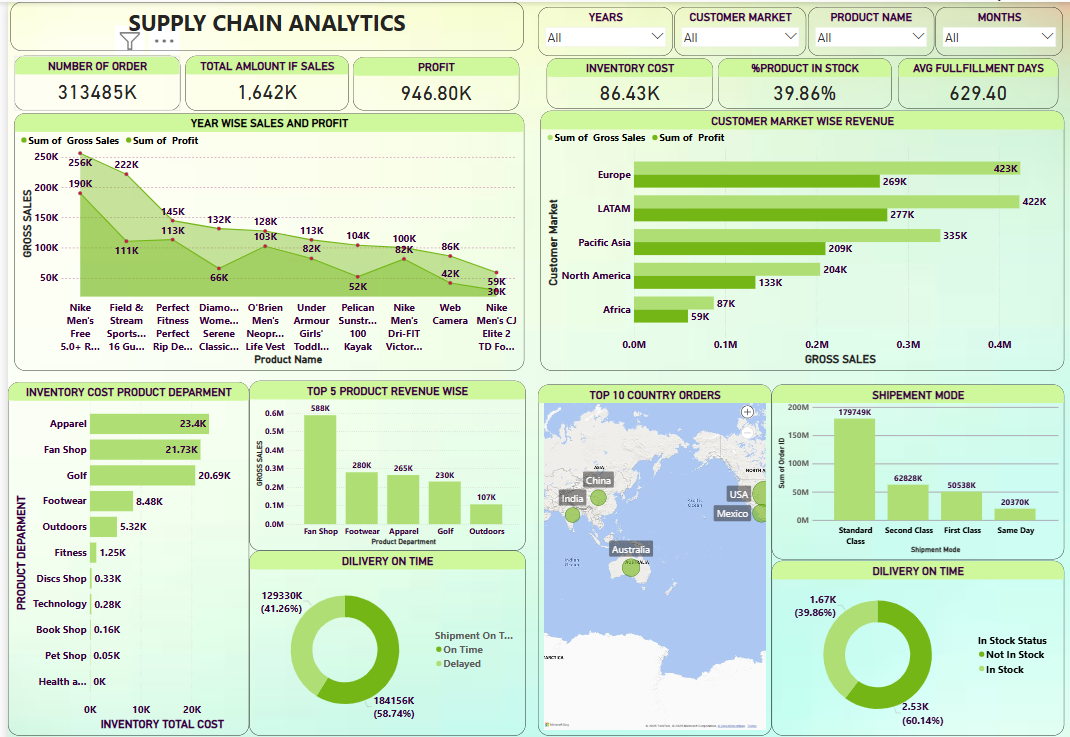

The dashboard page shown, as its layout file describes it:
{"tool":"powerbi","page":{"name":"Page 1","canvas":[2850,2000],"ordinal":0},"visuals":[{"type":"card","title":"NUMBER OF ORDER","fields":{"Values":["Sum(orders_and_shipments.Order ID )"]},"box":[15.9,143.2,445.4,147.1],"z":0},{"type":"card","title":"TOTAL AMLOUNT IF SALES","fields":{"Values":["Sum(orders_and_shipments. Gross Sales )"]},"box":[477.2,143.2,437.4,147.1],"z":1000},{"type":"card","title":"INVENTORY COST","fields":{"Values":["Sum(inventory.INVENTORY TOTALCOST OF PRODUCT)"]},"box":[1443.5,151.1,445.4,135.2],"z":2000},{"type":"columnChart","title":"TOP 5 PRODUCT REVENUE WISE","fields":{"Category":["orders_and_shipments.Product Department"],"Y":["Sum(orders_and_shipments. Gross Sales )"]},"box":[646.8,1015.4,740.6,455.8],"z":3000},{"type":"map","title":"TOP 10 COUNTRY ORDERS","fields":{"Category":["orders_and_shipments.Customer Country"],"Size":["Sum(orders_and_shipments.Order ID )"]},"box":[1420.9,1025.5,626.7,941.7],"z":4000},{"type":"areaChart","title":"YEAR WISE SALES AND PROFIT","fields":{"Y":["Sum(orders_and_shipments. Gross Sales )","Sum(orders_and_shipments. Profit )"],"Category":["orders_and_shipments.Product Name"]},"box":[16.8,298.3,1367.3,690.4],"z":5000},{"type":"textbox","box":[8,0,1375.9,131.2],"z":6000},{"type":"slicer","title":"YEARS","fields":{"Values":["orders_and_shipments.ORDER DATE.Variation.Date Hierarchy.Year"]},"box":[1419.6,11.9,361.9,131.2],"z":7000},{"type":"slicer","title":"MONTHS","fields":{"Values":["orders_and_shipments.ORDER DATE.Variation.Date Hierarchy.Month"]},"box":[2485.3,11.9,342,131.2],"z":8000},{"type":"slicer","title":"CUSTOMER MARKET","fields":{"Values":["orders_and_shipments.Customer Market"]},"box":[1785.5,11.9,353.9,131.2],"z":9000},{"type":"clusteredBarChart","title":"CUSTOMER MARKET WISE REVENUE","fields":{"Category":["orders_and_shipments.Customer Market"],"Y":["Sum(orders_and_shipments. Gross Sales )","Sum(orders_and_shipments. Profit )"]},"box":[1427.6,291.6,1404.2,697.1],"z":10000},{"type":"card","title":"%PRODUCT IN STOCK","fields":{"Values":["inventory.% Products In Stock"]},"box":[1904.8,151.1,465.3,135.2],"z":11000},{"type":"card","title":"AVG FULLFILLMENT DAYS","fields":{"Values":["fulfillment.Avg_Fulfillment_Days_Per_Product"]},"box":[2385.9,151.1,429.5,135.2],"z":12000},{"type":"clusteredBarChart","title":"INVENTORY COST PRODUCT DEPARMENT","fields":{"Y":["Sum(inventory.INVENTORY TOTALCOST OF PRODUCT)"],"Category":["orders_and_shipments.Product Department"]},"box":[0,1018.8,646.8,948.4],"z":13000},{"type":"slicer","title":"PRODUCT NAME","fields":{"Values":["fulfillment.Product Name"]},"box":[2143.3,11.9,338,131.2],"z":14000},{"type":"columnChart","title":"SHIPEMENT MODE","fields":{"Category":["orders_and_shipments.Shipment Mode"],"Y":["Sum(orders_and_shipments.Order ID )"]},"box":[2047.6,1025.5,784.2,469.2],"z":15000},{"type":"donutChart","title":"DILIVERY ON TIME","fields":{"Category":["orders_and_shipments.Shipment On Time"],"Y":["Sum(orders_and_shipments.Order ID )"]},"box":[646.8,1471.2,740.6,496],"z":16000},{"type":"card","title":"PROFIT","fields":{"Values":["orders_and_shipments.profit"]},"box":[926.5,147.1,445.4,143.2],"z":17000},{"type":"donutChart","title":"STOCK RATE","fields":{"Category":["inventory.In Stock Status"],"Y":["CountNonNull(inventory.Product Name)"]},"box":[2047.6,1498,784.2,469.2],"z":18000}]}

Visuals, with their boxes in screenshot pixels (x1, y1, x2, y2), scaled from the page's 2850x2000 canvas onto the 1070x737 screenshot:
"NUMBER OF ORDER" card: l=6, t=53, r=173, b=107
"TOTAL AMLOUNT IF SALES" card: l=179, t=53, r=343, b=107
"INVENTORY COST" card: l=542, t=56, r=709, b=106
"TOP 5 PRODUCT REVENUE WISE" columnChart: l=243, t=374, r=521, b=542
"TOP 10 COUNTRY ORDERS" map: l=533, t=378, r=769, b=725
"YEAR WISE SALES AND PROFIT" areaChart: l=6, t=110, r=520, b=364
textbox: l=3, t=0, r=520, b=48
"YEARS" slicer: l=533, t=4, r=669, b=53
"MONTHS" slicer: l=933, t=4, r=1061, b=53
"CUSTOMER MARKET" slicer: l=670, t=4, r=803, b=53
"CUSTOMER MARKET WISE REVENUE" clusteredBarChart: l=536, t=107, r=1063, b=364
"%PRODUCT IN STOCK" card: l=715, t=56, r=890, b=106
"AVG FULLFILLMENT DAYS" card: l=896, t=56, r=1057, b=106
"INVENTORY COST PRODUCT DEPARMENT" clusteredBarChart: l=0, t=375, r=243, b=725
"PRODUCT NAME" slicer: l=805, t=4, r=932, b=53
"SHIPEMENT MODE" columnChart: l=769, t=378, r=1063, b=551
"DILIVERY ON TIME" donutChart: l=243, t=542, r=521, b=725
"PROFIT" card: l=348, t=54, r=515, b=107
"STOCK RATE" donutChart: l=769, t=552, r=1063, b=725
